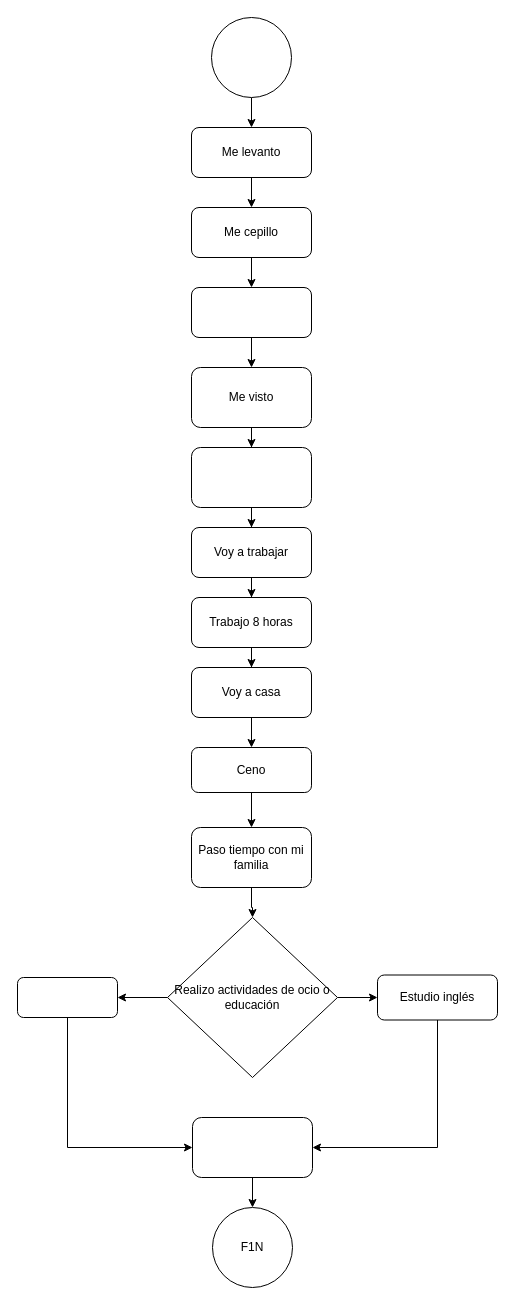
The diagram is 515 pixels wide and 1305 high, and some of its shapes have lost their labels. The shapes that lost their labels are listed below. From the top down, each one's centre as x and y in pixels, then its label:
(x=251, y=57): Inicio
(x=251, y=312): Me baño
(x=251, y=477): Desayuno
(x=67, y=997): Veo una película
(x=252, y=1147): Voy a dormir
